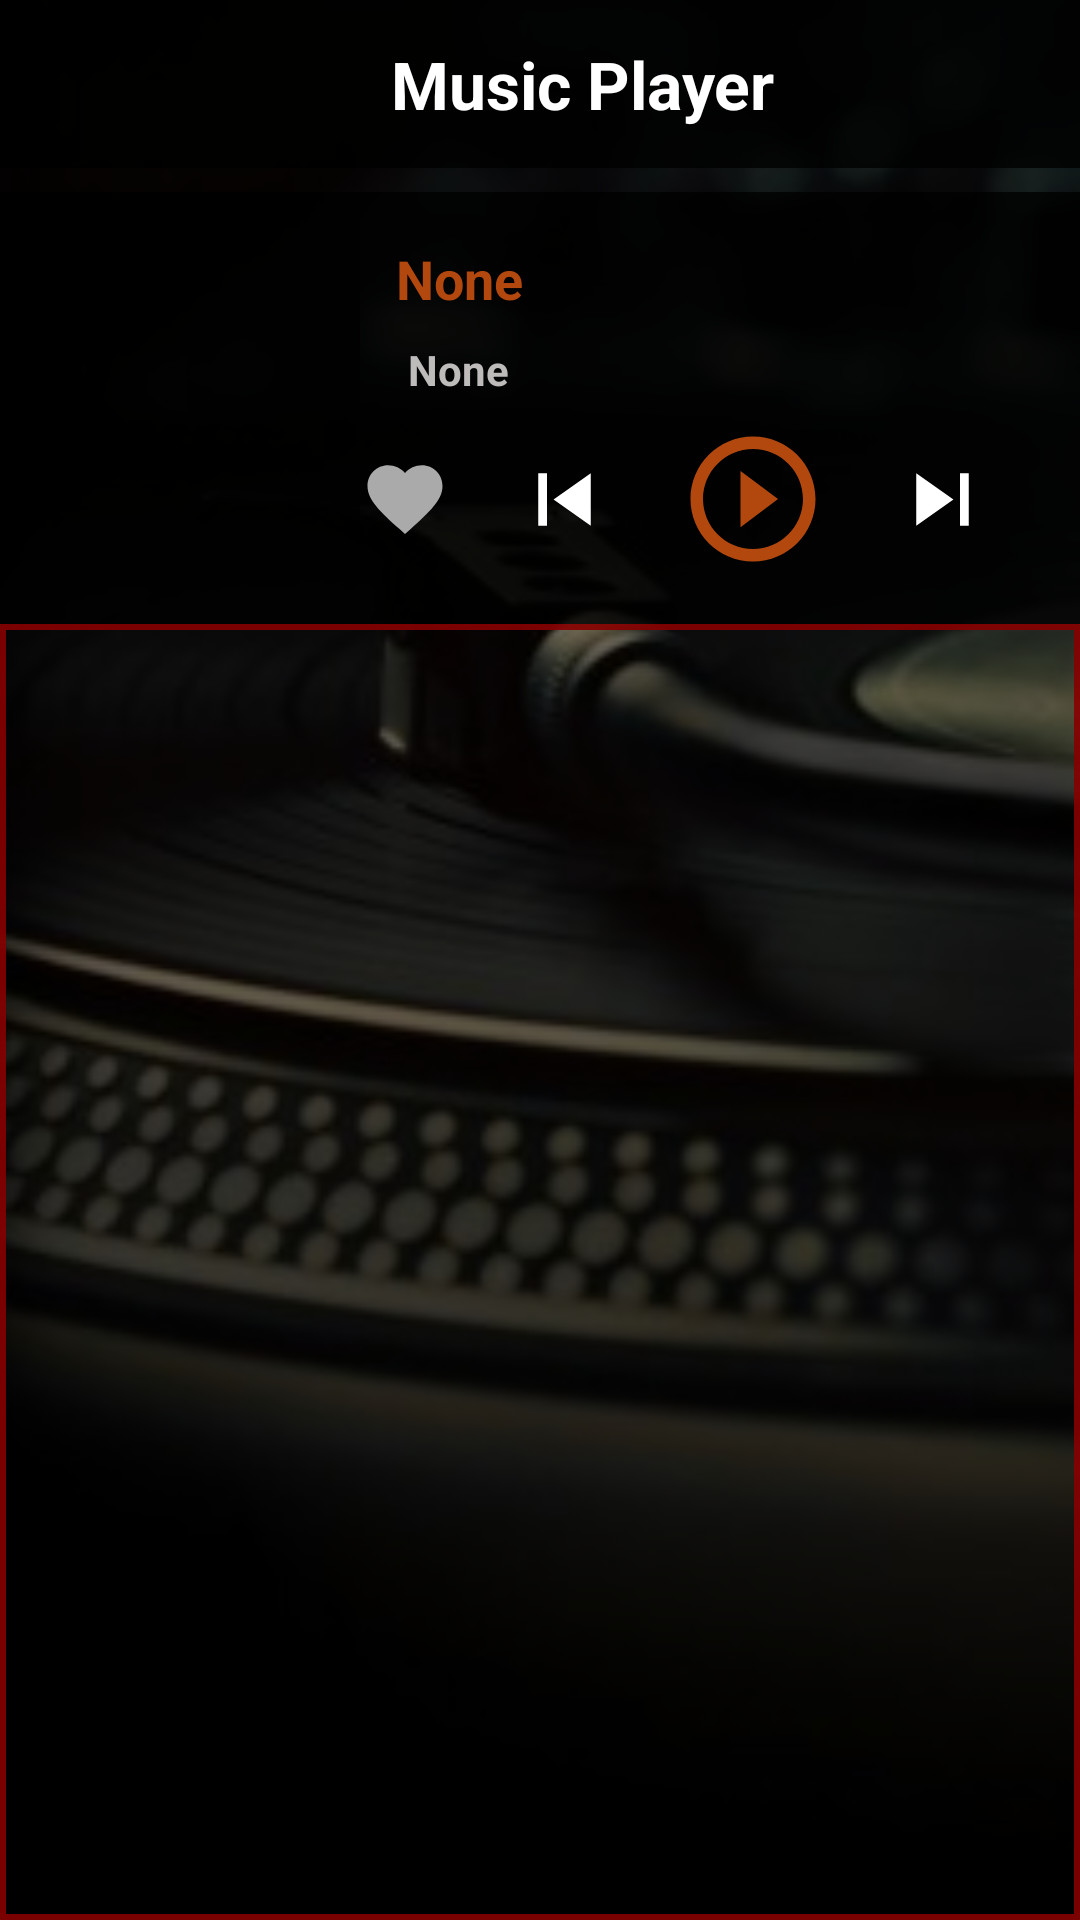

Screen size 1080 × 1920. Icon name, then its center in pixels as point (x, y):
favorite: point (405, 499)
next play: point (942, 499)
play: point (753, 499)
previous play: point (564, 499)
